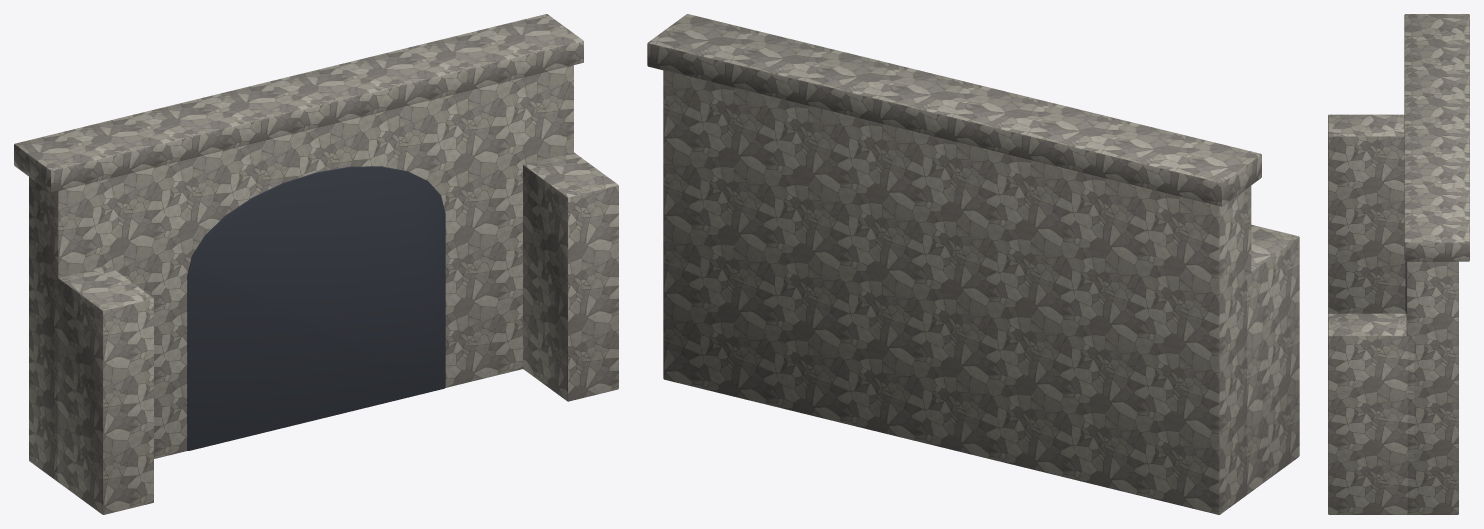
The model's file is tunnel.glb.
3 renders of one model, left to right at view 1: azimuth 30°, elevation 25°; view 2: azimuth 150°, elevation 25°; view 3: azimuth 270°, elevation 25°, orthographic. The views are drawn at different scales.
Parts seen in each view (by area): view 1: tunnel; view 2: tunnel; view 3: tunnel.
Part boxes in pixels (x1=…): tunnel: x1=14, y1=14, x2=618, y2=514; tunnel: x1=647, y1=14, x2=1299, y2=514; tunnel: x1=1328, y1=14, x2=1469, y2=514.
Bounding box in the file's own units: 12.4 × 7 × 3.25.
2 materials, 2 textured.
